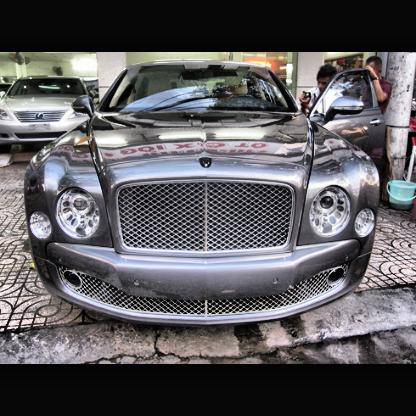Bentley Mulsanne Sedan 2011: (25, 61, 389, 319)
